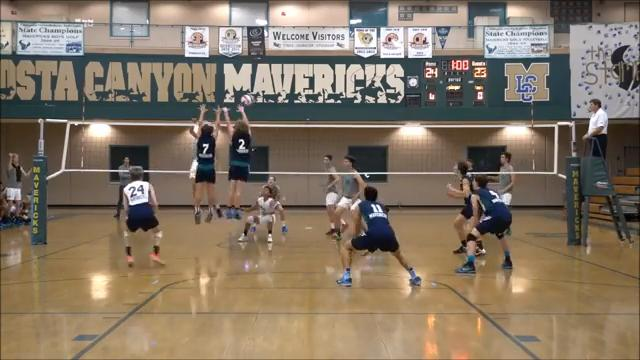attacco: (182, 111, 203, 195)
muro: (183, 96, 219, 226), (220, 95, 254, 222)
